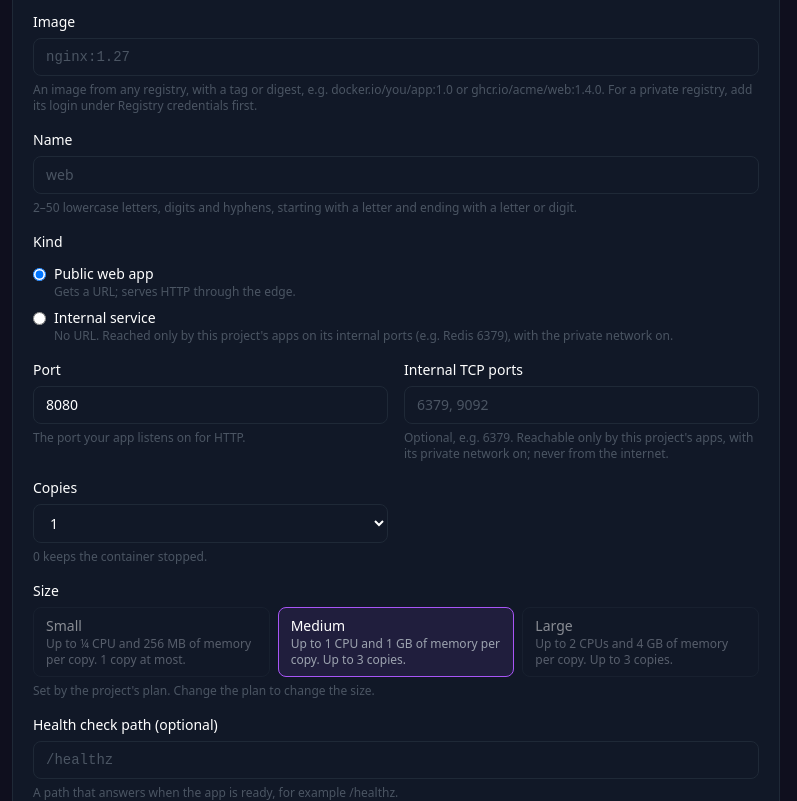
Test case: AppForm › refuses an image without a tag, in plain words
Type "nginx" into the field with test id "app-image".
click(396, 57); type("nginx")  # box [33,38,759,76]
(page scrolled)
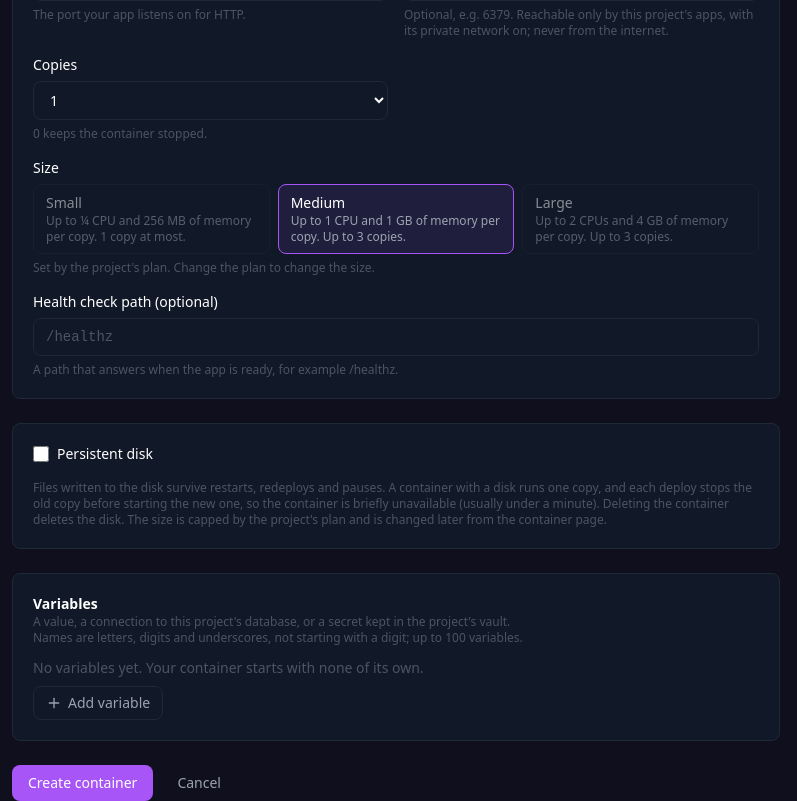
Click the button with test id "app-submit".
click(83, 783)  # box [12,765,153,800]
(page scrolled)
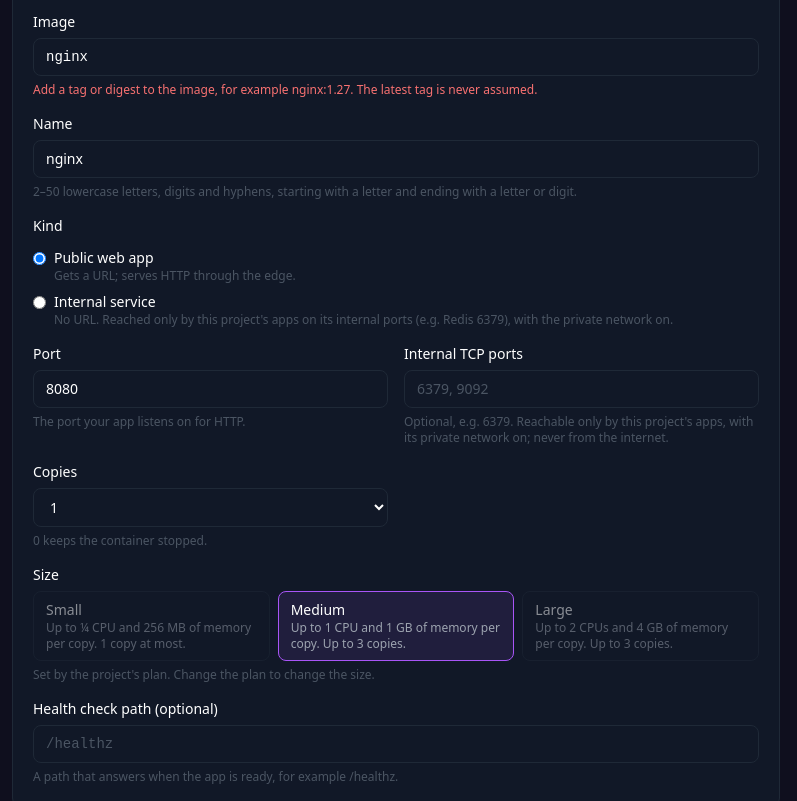
Now the text "Add a tag or digest" is shown, box [33,81,537,98]
